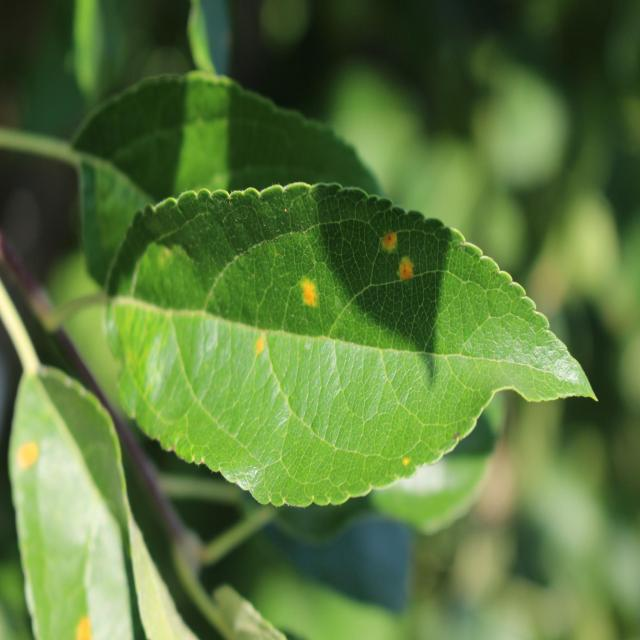Rust: (294, 272, 322, 320), (10, 441, 48, 472), (391, 254, 422, 284), (377, 228, 399, 265), (68, 612, 97, 640), (252, 334, 270, 360), (396, 452, 415, 476)
